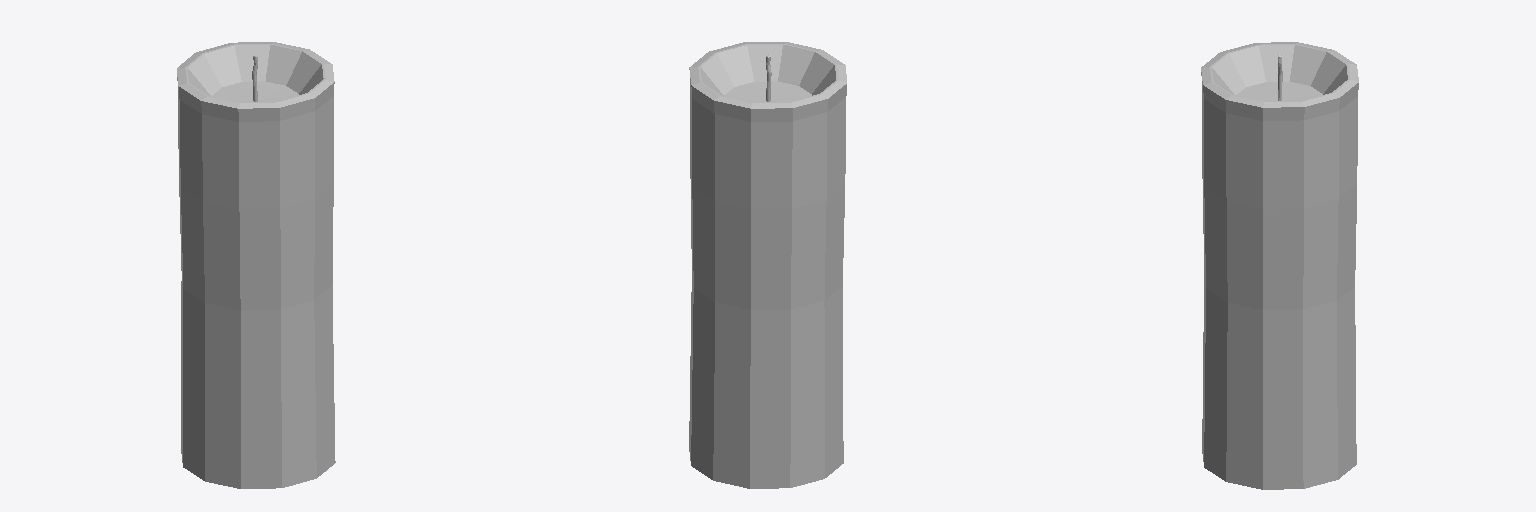
The model's file is candle_tall.obj.
3 renders of one model, left to right at view 1: azimuth 30°, elevation 25°; view 2: azimuth 150°, elevation 25°; view 3: azimuth 270°, elevation 25°, orthographic.
Visible parts, largest first — view 1: pCylinder5; view 2: pCylinder5; view 3: pCylinder5.
Part boxes in pixels (x1,y1,x2,y2): pCylinder5: (177, 42, 335, 488); pCylinder5: (689, 42, 846, 488); pCylinder5: (1201, 42, 1358, 489).
Size of the model in its own units: 33.95 by 94.8 by 33.75.